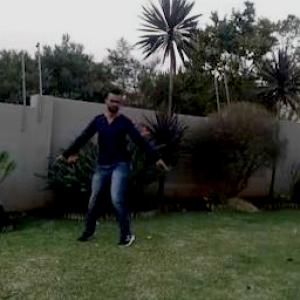land: (48, 80, 195, 259)
